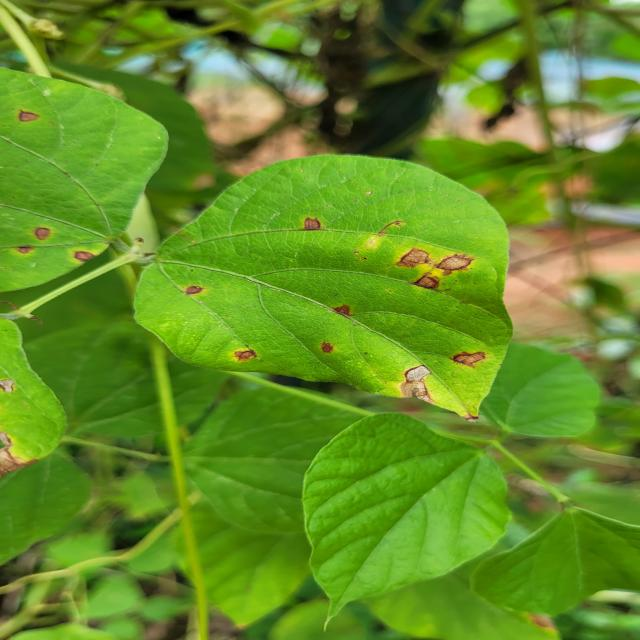Dolicos bean_cercospora leaf spot: (129, 156, 515, 429), (0, 59, 181, 284)
Dolicos bean_healthy: (0, 246, 260, 443), (173, 375, 445, 542), (283, 404, 506, 600), (173, 468, 332, 627), (485, 498, 640, 618), (461, 332, 592, 440), (0, 442, 108, 562)
